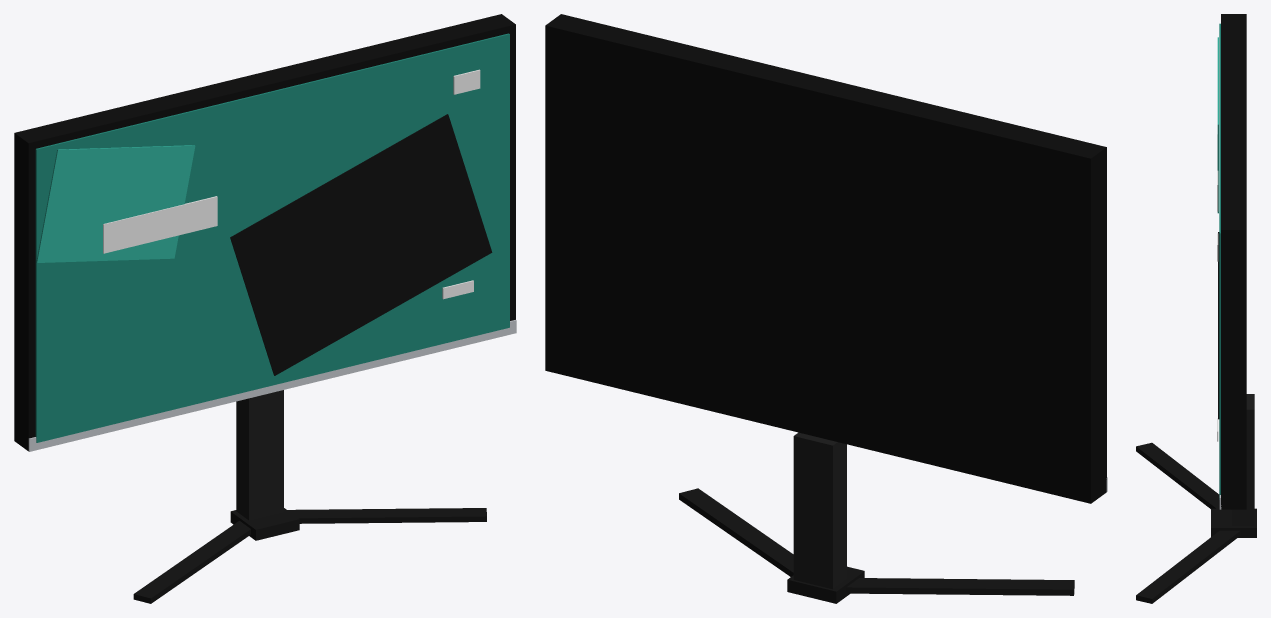
Rendered from 49-monitor-viewsonic-24.glb.
3 views of the same model, side by side, from view 1: azimuth 30°, elevation 25°; view 2: azimuth 150°, elevation 25°; view 3: azimuth 270°, elevation 25° (orthographic). The views are drawn at different scales.
Bounding box in the file's own units: 0.556 × 0.488 × 0.1315.
